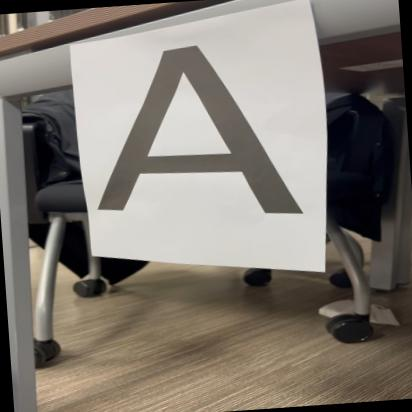seat: (83, 35, 311, 228)
